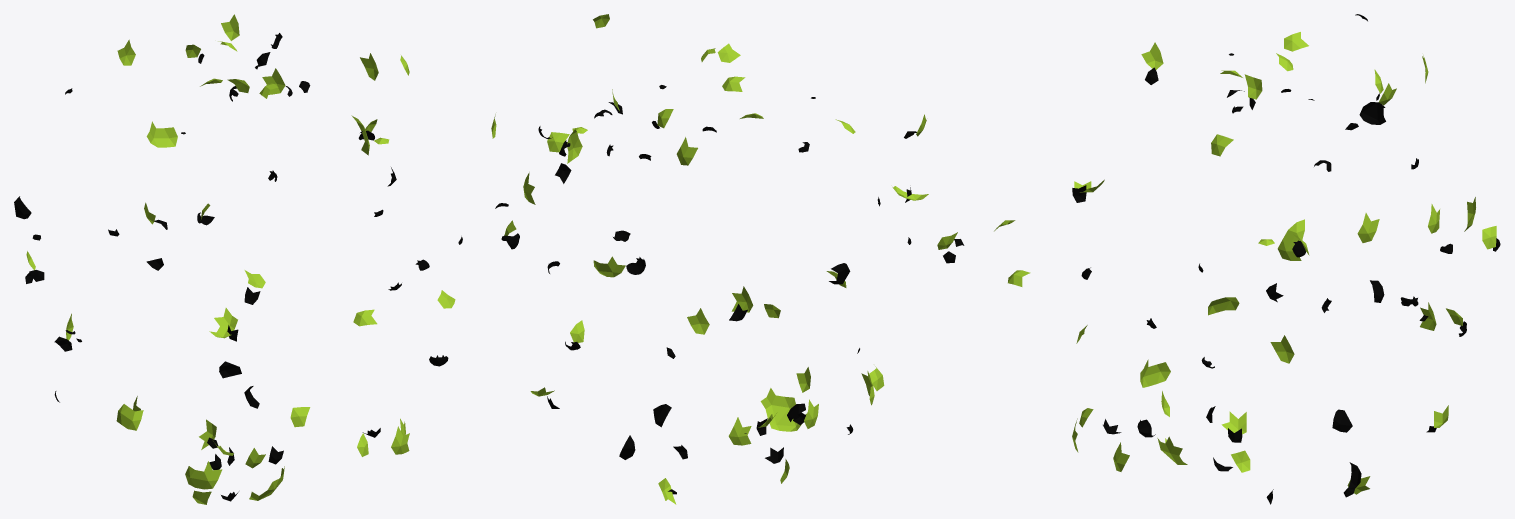
File: explode.f0019.glb
3 views of the same model, side by side, from view 1: azimuth 30°, elevation 25°; view 2: azimuth 150°, elevation 25°; view 3: azimuth 270°, elevation 25° (orthographic). The views are drawn at different scales.
Visible parts, largest first — view 1: Body.001; view 2: Body.001; view 3: Body.001.
Part boxes in pixels (left/top/right/bottom): Body.001: left=14, top=14, right=462, bottom=504; Body.001: left=491, top=14, right=964, bottom=504; Body.001: left=994, top=14, right=1500, bottom=504.
Size of the model in its own units: 14.52 by 14.92 by 14.91.
1 material, 1 textured.
